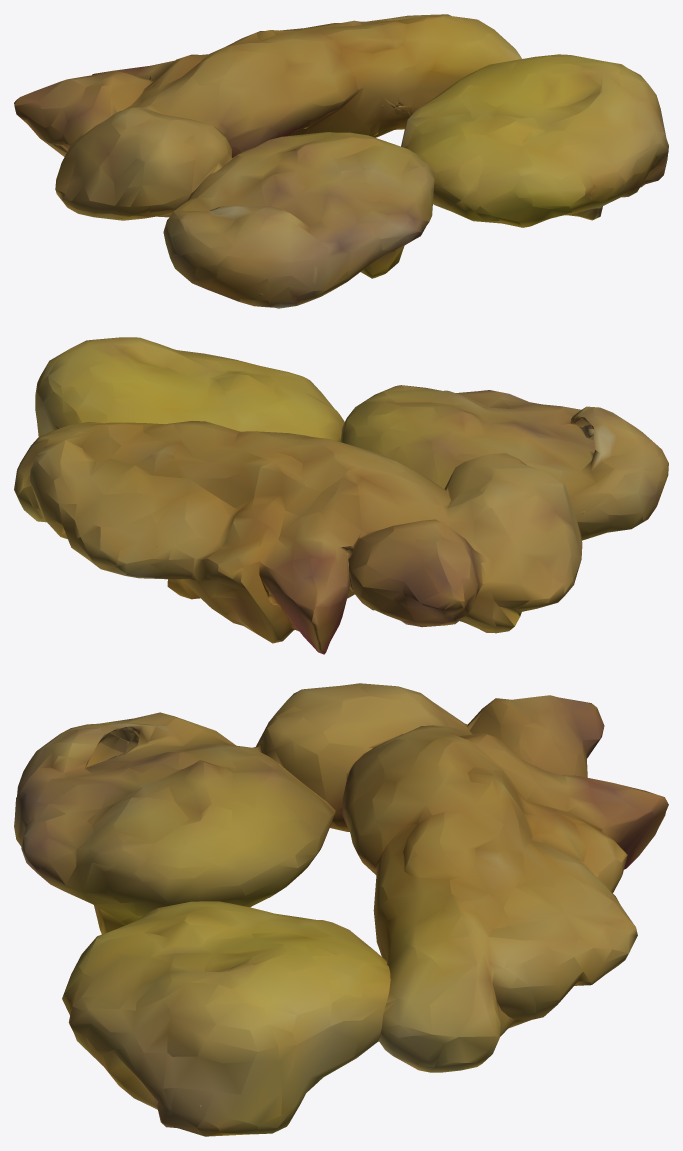
The model's file is 0003_mask_004_fried_food_pieces.glb.
The picture shows the model from 3 angles, top to bottom: view 1: azimuth 30°, elevation 25°; view 2: azimuth 150°, elevation 25°; view 3: azimuth 270°, elevation 25°; orthographic projection. The views are drawn at different scales.
Parts seen in each view (by area): view 1: mask_004_object; view 2: mask_004_object; view 3: mask_004_object.
Part boxes in pixels (x1,y1,x2,y2): mask_004_object: (14, 14, 668, 308); mask_004_object: (14, 337, 668, 654); mask_004_object: (14, 683, 668, 1136).
Bounding box in the file's own units: 0.443 × 0.1185 × 0.3562.
